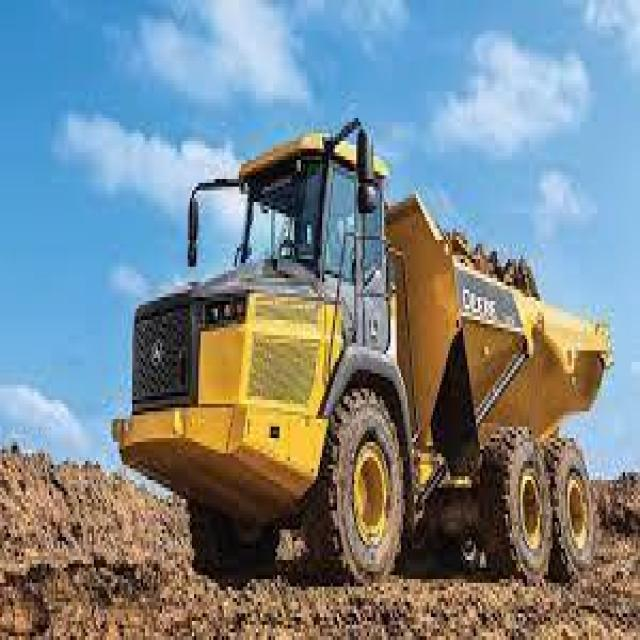dump_truck: (103, 122, 614, 582)
